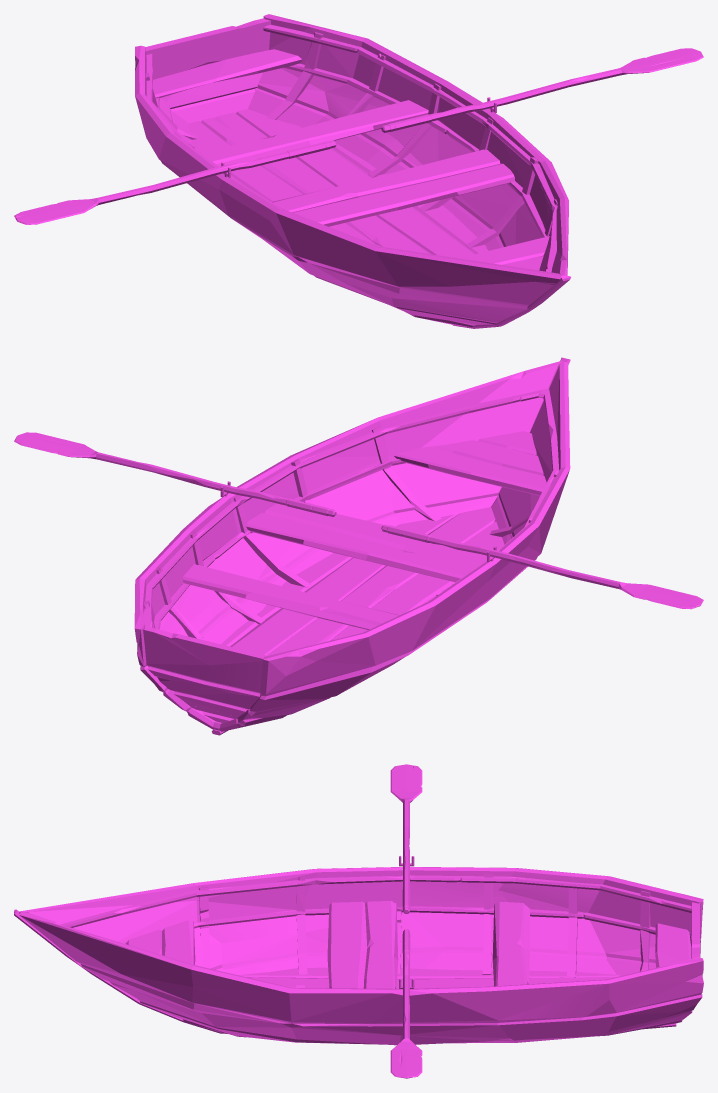
File: SM_Boat_Fantasy_Small.fbx
3 views of the same model, one above another, from view 1: azimuth 30°, elevation 25°; view 2: azimuth 150°, elevation 25°; view 3: azimuth 270°, elevation 25° (orthographic). The views are drawn at different scales.
Visible parts, largest first — view 1: SM_Boat_Fantasy_Small_Base, SM_Boat_Fantasy_Small_Paddle_R, SM_Boat_Fantasy_Small_Paddle_L; view 2: SM_Boat_Fantasy_Small_Base, SM_Boat_Fantasy_Small_Paddle_L, SM_Boat_Fantasy_Small_Paddle_R; view 3: SM_Boat_Fantasy_Small_Base, SM_Boat_Fantasy_Small_Paddle_L, SM_Boat_Fantasy_Small_Paddle_R.
Part boxes in pixels (box(x1,y1,x2,y2)): SM_Boat_Fantasy_Small_Base: box(135, 14, 570, 328); SM_Boat_Fantasy_Small_Paddle_R: box(14, 140, 336, 224); SM_Boat_Fantasy_Small_Paddle_L: box(381, 48, 703, 132); SM_Boat_Fantasy_Small_Base: box(134, 357, 570, 735); SM_Boat_Fantasy_Small_Paddle_L: box(14, 432, 336, 516); SM_Boat_Fantasy_Small_Paddle_R: box(381, 524, 703, 609); SM_Boat_Fantasy_Small_Base: box(14, 856, 703, 1045); SM_Boat_Fantasy_Small_Paddle_L: box(390, 929, 422, 1078); SM_Boat_Fantasy_Small_Paddle_R: box(390, 764, 422, 913).
Size of the model in its own units: 3.69 by 0.6651 by 3.41.
